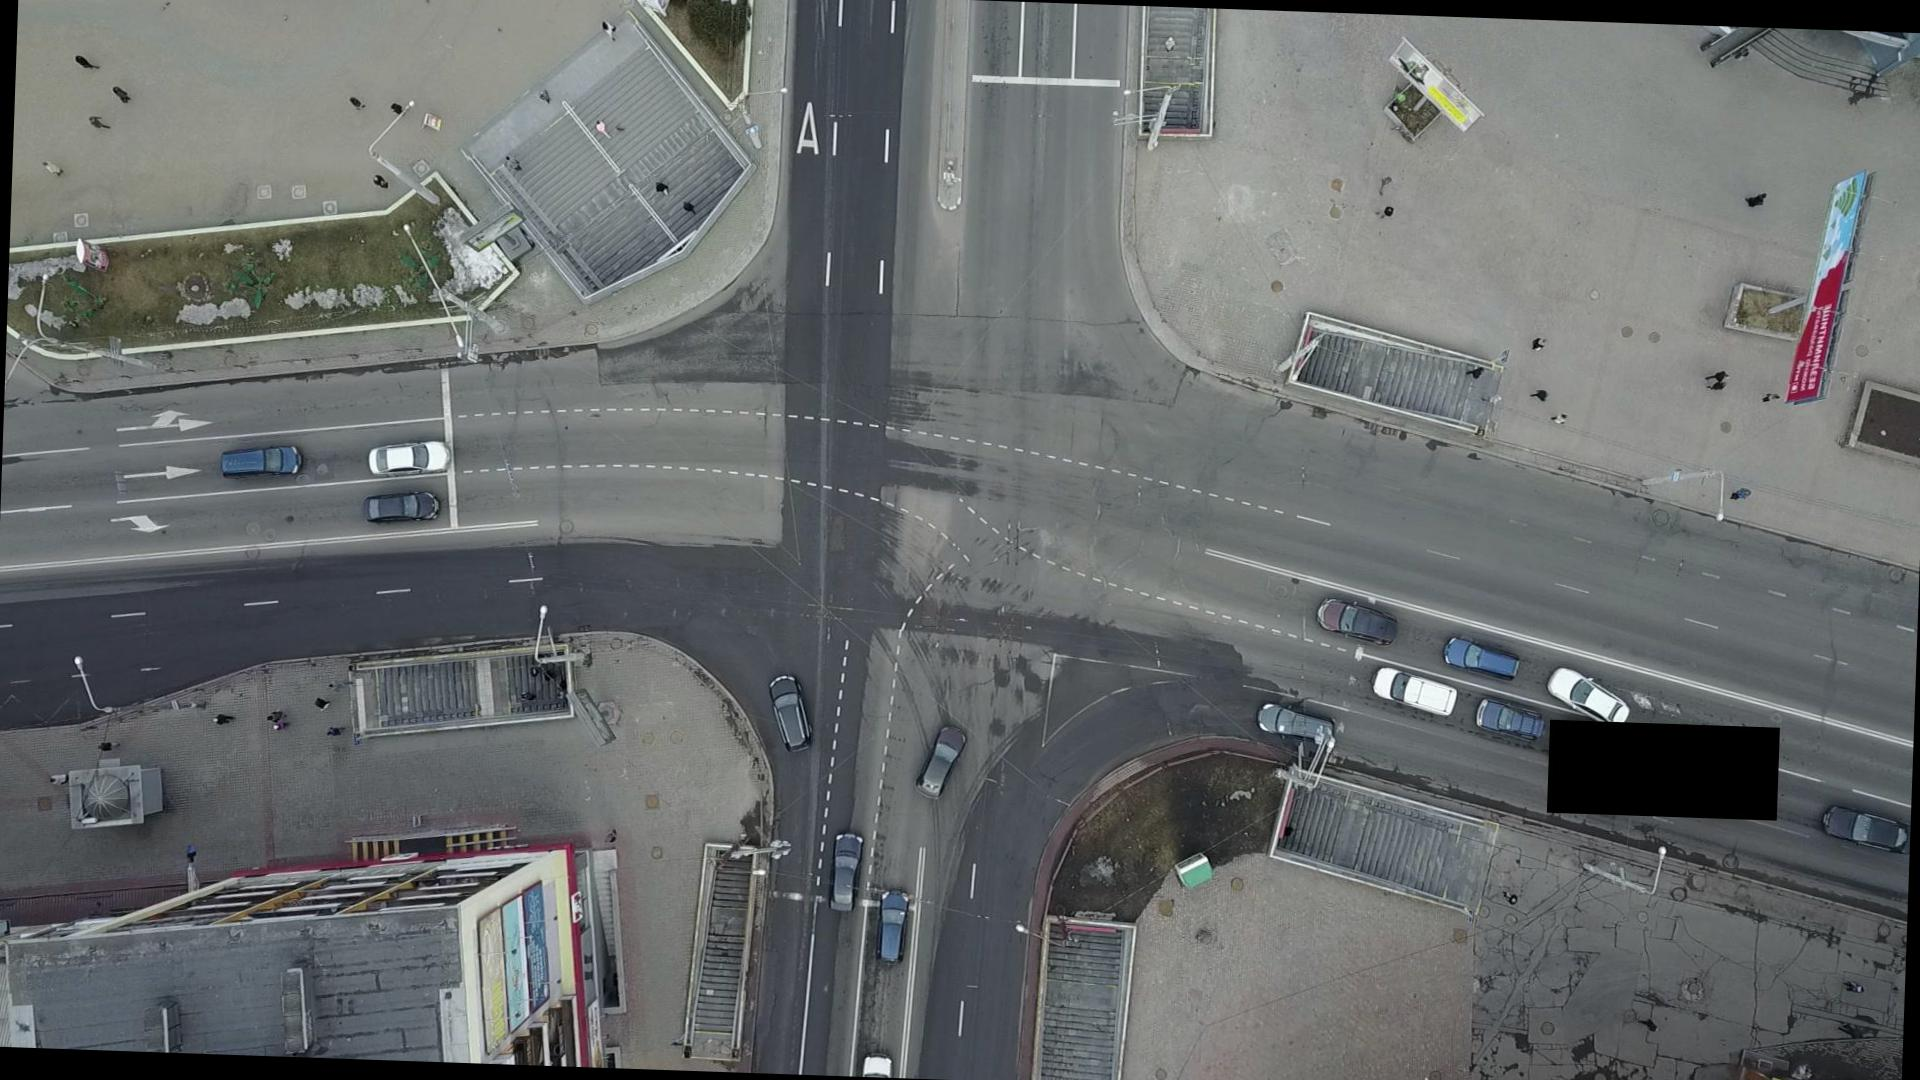vehicle: (1547, 662, 1633, 732), (1818, 800, 1908, 858), (1315, 592, 1407, 646), (1367, 666, 1464, 716), (1441, 628, 1524, 684), (914, 723, 972, 802), (764, 673, 819, 754), (1473, 695, 1553, 746), (365, 435, 456, 480), (1257, 700, 1337, 746), (222, 440, 305, 484), (825, 828, 866, 914), (361, 487, 442, 530), (873, 886, 913, 967)
